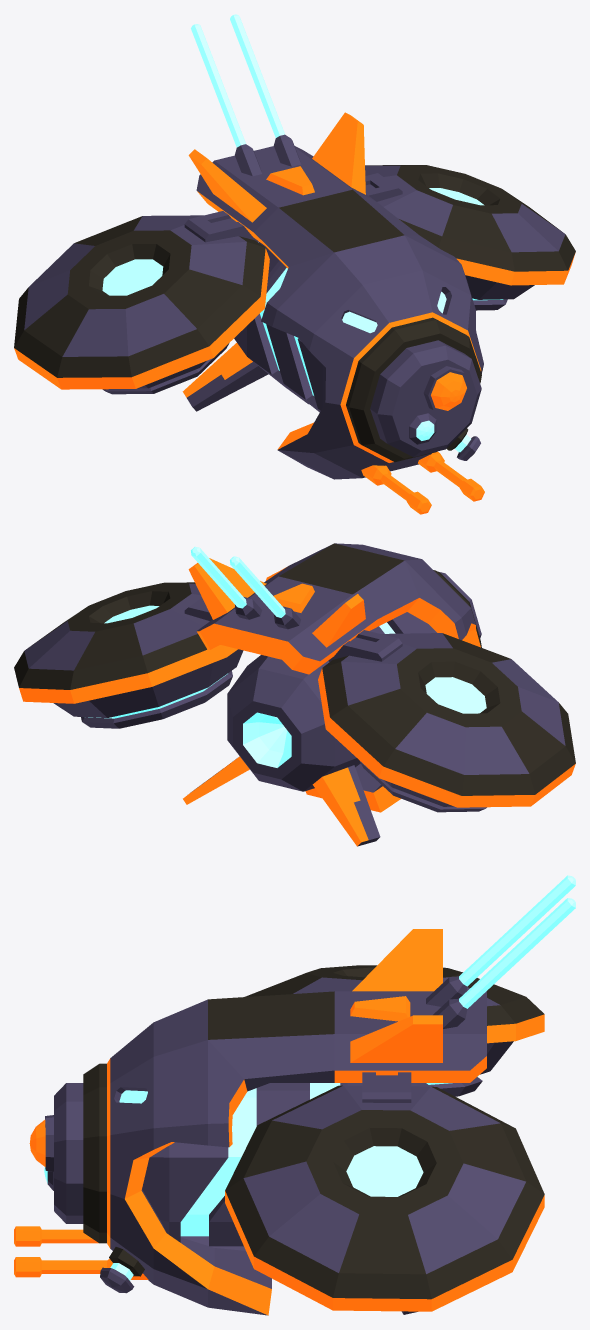
File: Drone_01.fbx
The picture shows the model from 3 angles, top to bottom: view 1: azimuth 30°, elevation 25°; view 2: azimuth 150°, elevation 25°; view 3: azimuth 270°, elevation 25°; orthographic projection. The views are drawn at different scales.
Parts seen in each view (by area): view 1: Drone_01; view 2: Drone_01; view 3: Drone_01.
Part boxes in pixels (left/top/right/bottom): Drone_01: left=14, top=14, right=575, bottom=514; Drone_01: left=14, top=543, right=575, bottom=846; Drone_01: left=14, top=875, right=575, bottom=1315.
Bounding box in the file's own units: 1460 × 922 × 1156.
